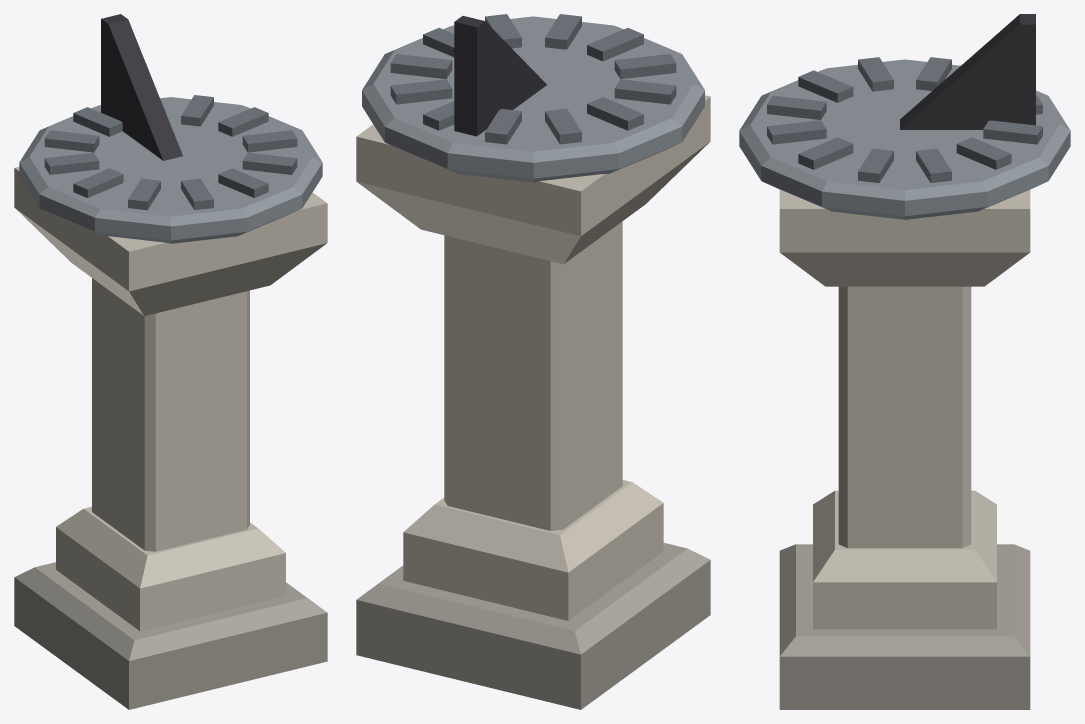
The model's file is FMS_Garden_Sundial.fbx.
The picture shows the model from 3 angles, left to right: view 1: azimuth 30°, elevation 25°; view 2: azimuth 150°, elevation 25°; view 3: azimuth 270°, elevation 25°; orthographic projection. The views are drawn at different scales.
Parts seen in each view (by area): view 1: FMS_Garden_Sundial_Body; view 2: FMS_Garden_Sundial_Body; view 3: FMS_Garden_Sundial_Body.
Part boxes in pixels (x1,y1,x2,y2): FMS_Garden_Sundial_Body: (14, 14, 327, 709); FMS_Garden_Sundial_Body: (356, 14, 710, 709); FMS_Garden_Sundial_Body: (739, 14, 1070, 709).
Size of the model in its own units: 0.45 by 0.955 by 0.45.
